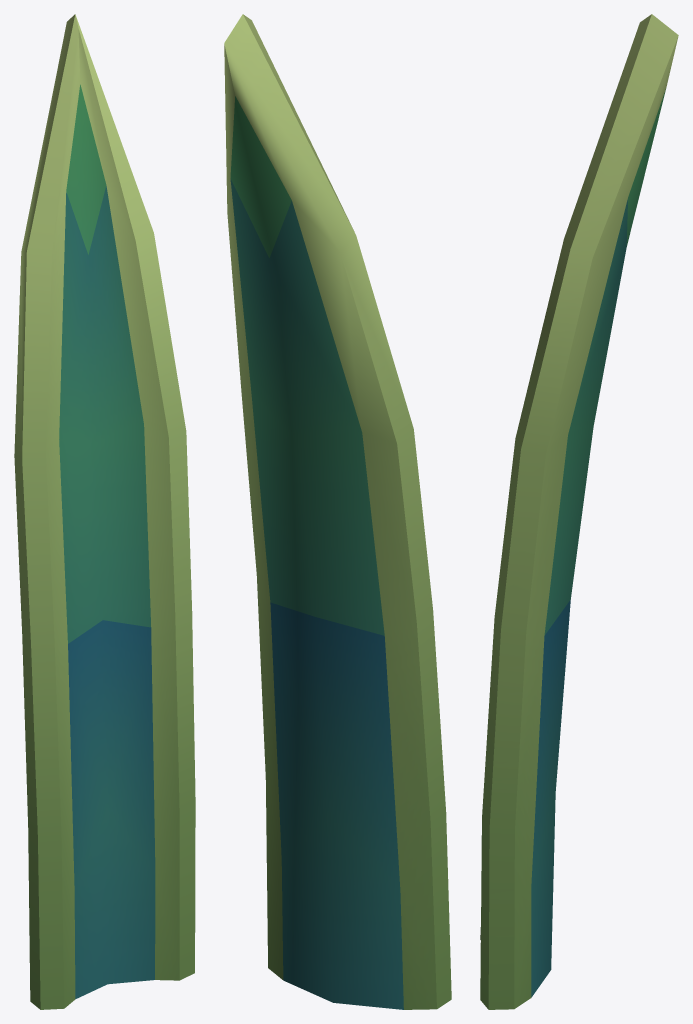
File: Sansevieria Leaf Med.glb
3 views of the same model, side by side, from view 1: azimuth 30°, elevation 25°; view 2: azimuth 150°, elevation 25°; view 3: azimuth 270°, elevation 25° (orthographic). The views are drawn at different scales.
Parts seen in each view (by area): view 1: sansevieria_leaf_medium_A; view 2: sansevieria_leaf_medium_A; view 3: sansevieria_leaf_medium_A.
Boxes of the visible parts, <box> form: sansevieria_leaf_medium_A: <box>14,14,195,1009</box>; sansevieria_leaf_medium_A: <box>224,14,451,1009</box>; sansevieria_leaf_medium_A: <box>480,14,678,1009</box>.
Bounding box in the file's own units: 0.3144 × 1.69 × 0.313.
1 material, 1 textured.
